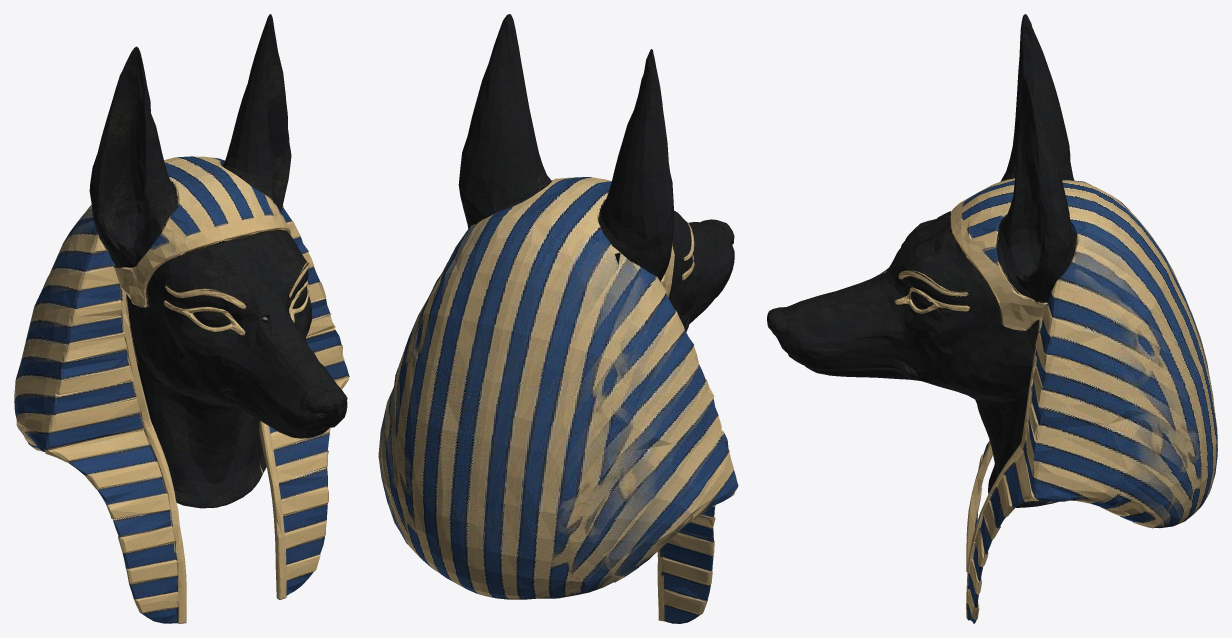
File: ewm_jackalhead.glb
3 views of the same model, side by side, from view 1: azimuth 30°, elevation 25°; view 2: azimuth 150°, elevation 25°; view 3: azimuth 270°, elevation 25° (orthographic). The views are drawn at different scales.
Parts seen in each view (by area): view 1: ewm_jackalhead; view 2: ewm_jackalhead; view 3: ewm_jackalhead.
Boxes of the visible parts, bbox=[...] form: ewm_jackalhead: bbox=[14, 14, 349, 623]; ewm_jackalhead: bbox=[378, 14, 738, 623]; ewm_jackalhead: bbox=[767, 14, 1217, 623].
Bounding box in the file's own units: 0.2552 × 0.4479 × 0.3334.
1 material, 1 textured.
